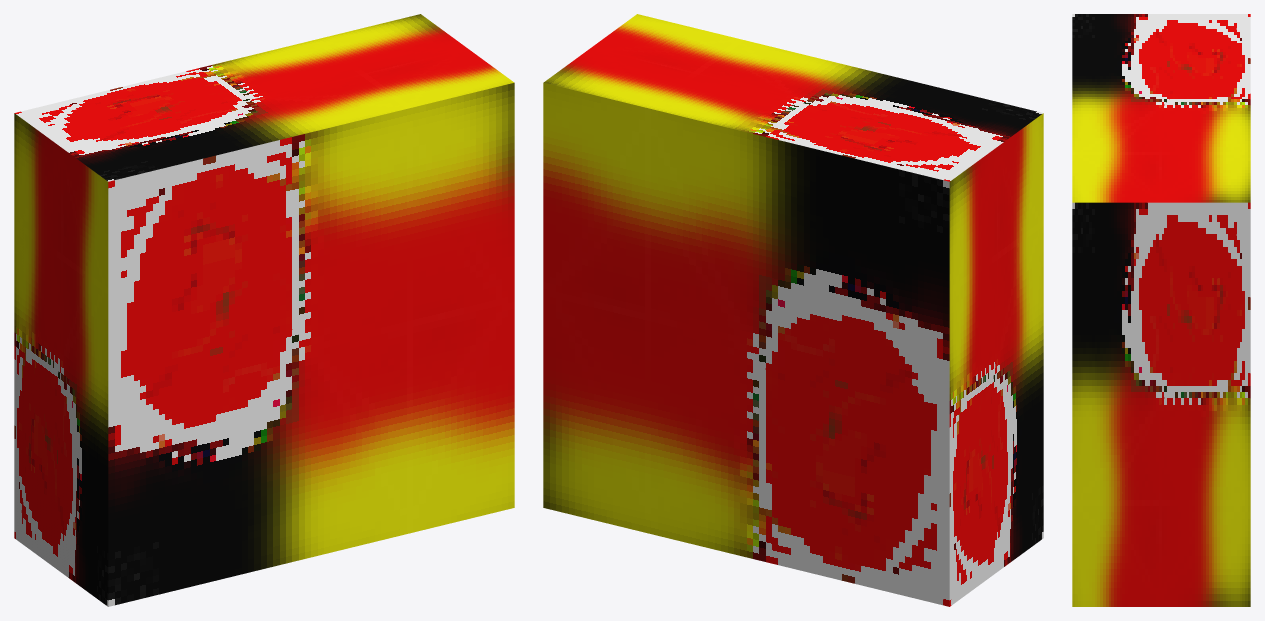
Rendered from rocket__simplebox.glb.
3 renders of one model, left to right at view 1: azimuth 30°, elevation 25°; view 2: azimuth 150°, elevation 25°; view 3: azimuth 270°, elevation 25°, orthographic. The views are drawn at different scales.
Visible parts, largest first — view 1: pCube1; view 2: pCube1; view 3: pCube1.
Part boxes in pixels (x1,y1,x2,y2): pCube1: (14, 14, 514, 606); pCube1: (543, 14, 1043, 606); pCube1: (1072, 14, 1250, 606).
Bounding box in the file's own units: 5 × 5 × 2.
1 material, 1 textured.
